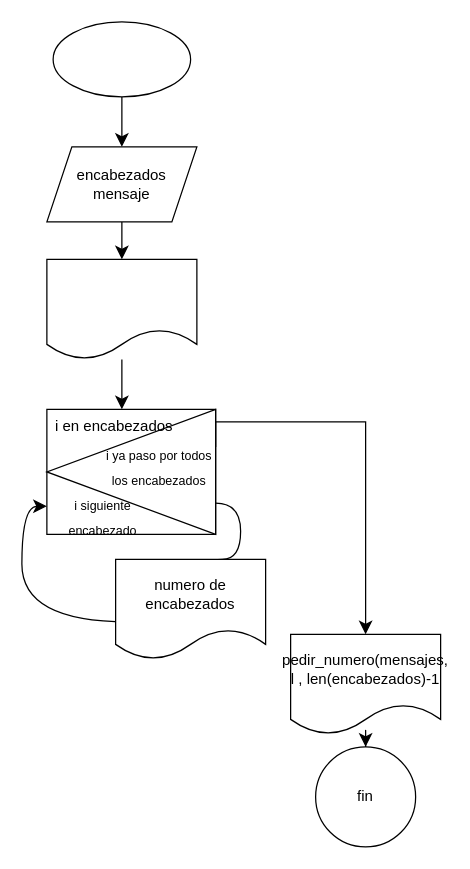
Some shapes in this 470 by 869 pixel diagram are drawn without their labels. Here are the shapes that lost their labels. From the top down, the centre of each, then its label:
At (121,59): "inicio".
At (121,308): "columnas disponibles".
